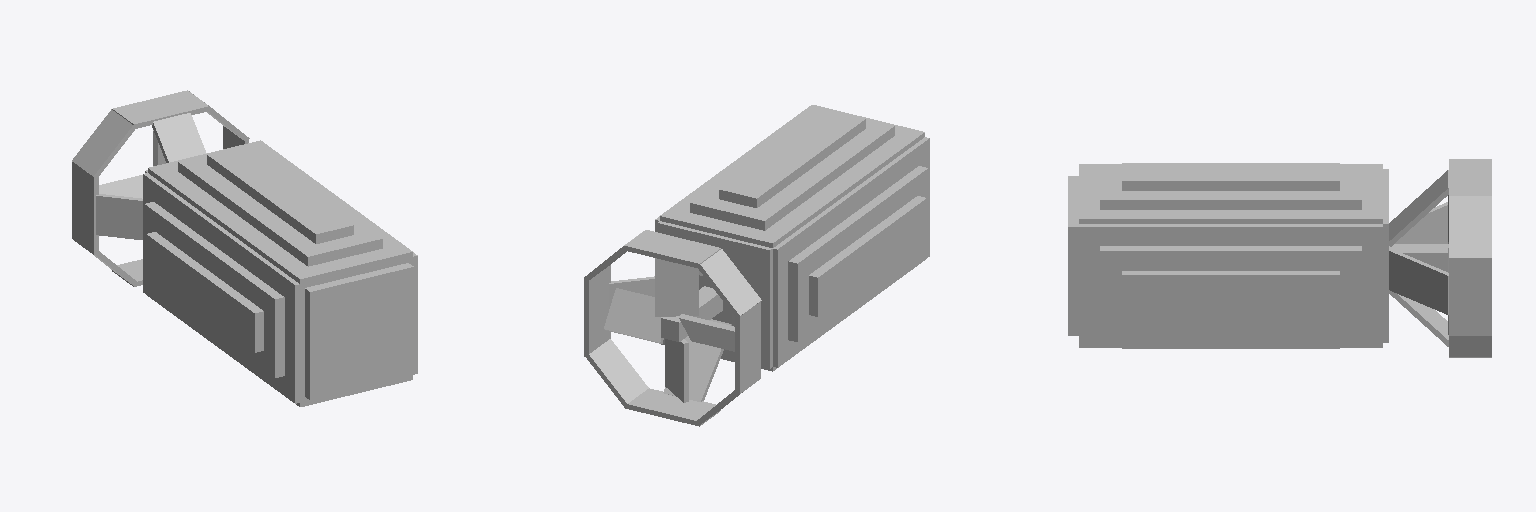
The model's file is andolf_sub.obj.
The picture shows the model from 3 angles: view 1: azimuth 30°, elevation 25°; view 2: azimuth 150°, elevation 25°; view 3: azimuth 270°, elevation 25°; orthographic projection.
Visible parts, largest first — view 1: cube3, cube33, cube5, cube8, cube6, cube9, cube7, cube25, cube23, cube19, cube21, cube17 (+7 smaller); view 2: propellor, cube3, cube8, cube5, cube6, cube9, cube7, cube16, cube23, cube25, cube21, cube27 (+4 smaller); view 3: cube4, cube10, cube11, cube5, cube6, cube7, cube24, cube28, cube20, cube21, cube17, cube19 (+6 smaller).
Part boxes in pixels (x1,y1,x2,y2): cube3: (143,173,304,403); cube33: (320,279,403,387); cube5: (148,140,412,288); cube8: (145,202,284,377); cube6: (178,143,382,266); cube9: (146,232,263,352); cube7: (207,146,353,243); cube25: (72,109,135,177); cube23: (72,162,98,254); cube19: (96,194,142,239); cube21: (112,90,208,128); cube17: (152,113,206,162); propellor: (604,258,734,402); cube3: (773,137,929,367); cube8: (788,166,927,341); cube5: (660,105,924,247); cube6: (690,107,894,230); cube9: (809,196,926,316); cube7: (719,110,865,207); cube16: (657,221,772,368); cube23: (735,301,760,394); cube25: (698,249,761,317); cube21: (624,230,720,268); cube27: (586,339,648,405); cube4: (1079,224,1382,344); cube10: (1100,246,1361,329); cube11: (1122,271,1339,314); cube5: (1079,164,1382,223); cube6: (1100,164,1361,209); cube7: (1122,163,1339,190); cube24: (1449,258,1491,335); cube28: (1449,196,1491,257); cube20: (1389,248,1448,314); cube21: (1449,159,1491,195); cube17: (1389,170,1448,246); cube19: (1395,202,1447,243).
Bounding box in the file's own units: 4.25 × 4.25 × 9.75.